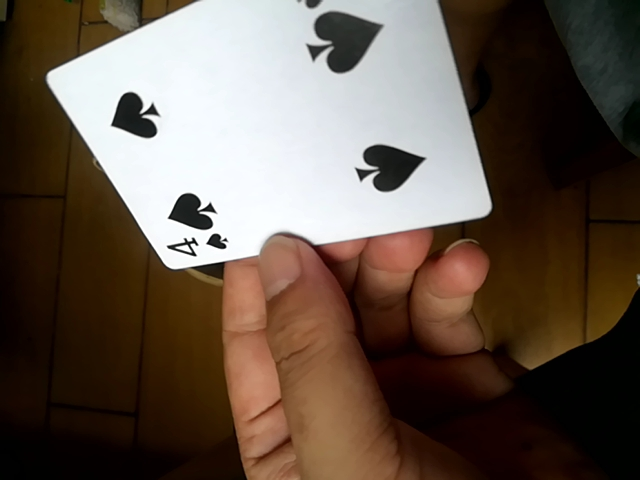ht 4: (43, 0, 497, 280)
